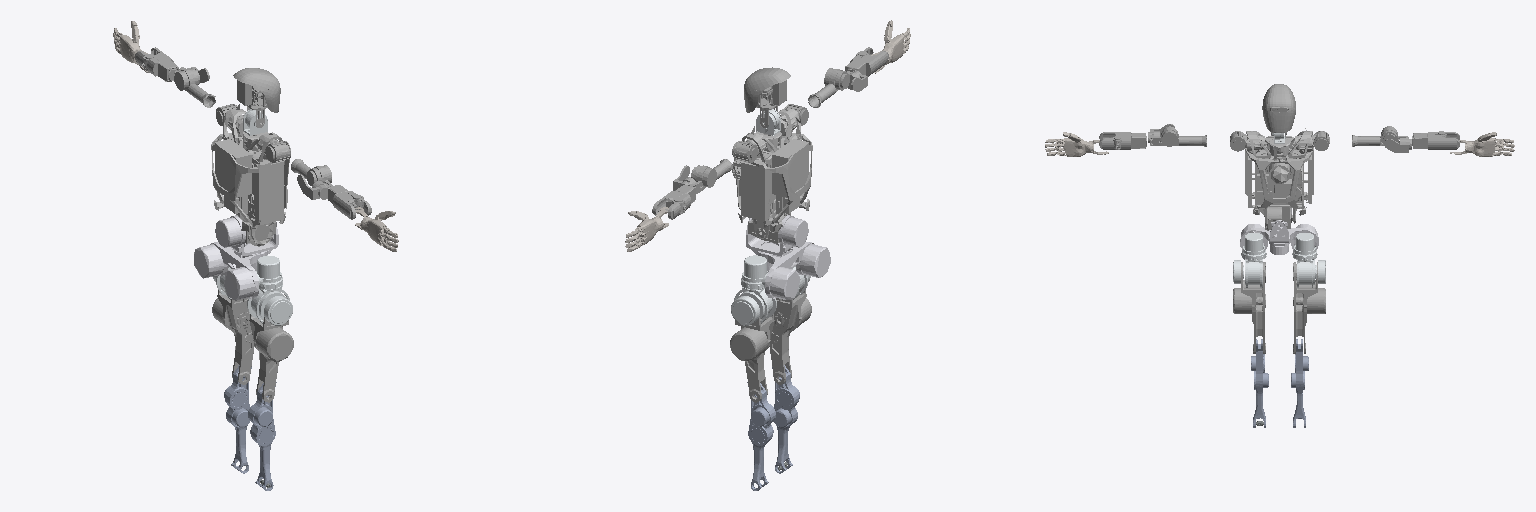
--- Render facts (derived) ---
3 views of the same robot in one strip: view 1: azimuth 30°, elevation 25°; view 2: azimuth 150°, elevation 25°; view 3: azimuth 270°, elevation 25° (orthographic).
Model OpenLoog with 32 links and 31 joints (29 revolute, 2 fixed), rooted at base_link, posed all joints at 0.
Links seen in each view (by area): view 1: base_link, Link_waist_yaw, leg_r3_link, leg_l3_link, Link_head_pitch, leg_r4_link, leg_l4_link, leg_r2_link, Link_waist_roll, Link_arm_r_07, leg_r1_link, Link_arm_l_03 (+4 smaller); view 2: base_link, Link_waist_yaw, leg_l3_link, leg_r3_link, Link_head_pitch, leg_l4_link, leg_r4_link, Link_waist_roll, leg_l2_link, Link_arm_l_07, Link_arm_r_03, leg_l1_link (+4 smaller); view 3: base_link, leg_r3_link, Link_head_pitch, leg_l3_link, Link_waist_yaw, Link_arm_l_07, Link_arm_r_07, leg_r4_link, leg_l4_link, Link_arm_l_05, Link_arm_r_05, leg_l2_link (+4 smaller).
Link boxes in pixels (x1,y1,x2,y2): base_link: [211, 104, 289, 245]; Link_waist_yaw: [194, 242, 272, 300]; leg_r3_link: [249, 314, 293, 402]; leg_l3_link: [212, 288, 254, 384]; Link_head_pitch: [233, 68, 280, 127]; leg_r4_link: [248, 382, 276, 490]; leg_l4_link: [224, 365, 251, 473]; leg_r2_link: [247, 288, 292, 325]; Link_waist_roll: [215, 215, 278, 255]; Link_arm_r_07: [355, 207, 398, 251]; leg_r1_link: [256, 255, 282, 290]; Link_arm_l_03: [175, 68, 215, 107]; base_link: [732, 108, 812, 238]; Link_waist_yaw: [751, 242, 830, 299]; leg_l3_link: [730, 314, 774, 402]; leg_r3_link: [769, 288, 811, 384]; Link_head_pitch: [744, 67, 790, 127]; leg_l4_link: [747, 382, 775, 490]; leg_r4_link: [772, 365, 799, 473]; Link_waist_roll: [746, 215, 808, 255]; leg_l2_link: [731, 287, 776, 325]; Link_arm_l_07: [625, 207, 668, 251]; Link_arm_r_03: [808, 68, 849, 107]; leg_l1_link: [741, 255, 767, 290]; base_link: [1245, 128, 1313, 229]; leg_r3_link: [1233, 262, 1265, 353]; Link_head_pitch: [1262, 84, 1295, 135]; leg_l3_link: [1293, 262, 1325, 353]; Link_waist_yaw: [1240, 224, 1318, 254]; Link_arm_l_07: [1450, 132, 1514, 156]; Link_arm_r_07: [1045, 132, 1108, 156]; leg_r4_link: [1251, 339, 1268, 427]; leg_l4_link: [1291, 339, 1308, 427]; Link_arm_l_05: [1412, 132, 1459, 149]; Link_arm_r_05: [1099, 132, 1146, 149]; leg_l2_link: [1297, 259, 1325, 287].
Bounding box of the posed robot: 0.3295 × 2.22 × 1.77 m (x, y, z).
Meshes: 32 distinct files referenced, 27 mesh visuals loaded (27 binary STL); not drawn: 5 (reference not matched to a file when rendering).

robot.urdf — OpenLoog:
<?xml version="1.0" encoding="utf-8"?>
<!-- This URDF was automatically created by SolidWorks to URDF Exporter! Originally created by Stephen Brawner ([email redacted]) 
     Commit Version: 1.6.0-4-g7f85cfe  Build Version: 1.6.7995.38578
     For more information, please see http://wiki.ros.org/sw_urdf_exporter -->
<robot
  name="OpenLoog">
  <mujoco>
    <compiler
    	meshdir="../meshes/"
    	balanceinertia="true"
    	discardvisual="false" />
  </mujoco>
  <link
    name="base_link">
    <inertial>
      <origin
        xyz="-0.0056641 -0.0013367 0.23829"
        rpy="0 0 0" />
      <mass
        value="27.0000000" />
      <inertia
        ixx="0.4501016"
        ixy="-0.0011392"
        ixz="-0.0055884"
        iyy="0.3330852"
        iyz="-0.0048285"
        izz="0.2658726" />
    </inertial>
    <visual>
      <origin
        xyz="0 0 0"
        rpy="0 0 0" />
      <geometry>
        <mesh
          filename="../meshes/base_link.STL" />
      </geometry>
      <material
        name="">
        <color
          rgba="0.75294 0.75294 0.75294 1" />
      </material>
    </visual>
    <collision>
      <origin
        xyz="0 0 0"
        rpy="0 0 0" />
      <geometry>
        <mesh
          filename="../meshes/base_link.STL" />
      </geometry>
    </collision>
  </link>
  <link
    name="Link_head_yaw">
    <inertial>
      <origin
        xyz="0.0000000 -0.0032217 0.0446573"
        rpy="0 0 0" />
      <mass
        value="0.84249" />
      <inertia
        ixx="0.0005950"
        ixy="0"
        ixz="0"
        iyy="0.0006894"
        iyz="0.0000100"
        izz="0.0005206" />
    </inertial>
    <visual>
      <origin
        xyz="0 0 0"
        rpy="0 0 0" />
      <geometry>
        <mesh
          filename="../meshes/Link_head_yaw.STL" />
      </geometry>
      <material
        name="">
        <color
          rgba="0.89804 0.91765 0.92941 1" />
      </material>
    </visual>
    <!-- <collision>
      <origin
        xyz="0 0 0"
        rpy="0 0 0" />
      <geometry>
        <mesh
          filename="../meshes/Link_head_yaw.STL" />
      </geometry>
    </collision> -->
  </link>
  <joint
    name="J_head_yaw"
    type="fixed">
    <origin
      xyz="0.009 0 0.4064"
      rpy="0 0 0" />
    <parent
      link="base_link" />
    <child
      link="Link_head_yaw" />
    <axis
      xyz="0 0 1" />
    <limit
      lower="-1.5708"
      upper="1.5708"
      effort="26"
      velocity="109.8" />
  </joint>
  <link
    name="Link_head_pitch">
    <inertial>
      <origin
        xyz="0.0205621 0.0330045 0.1250100"
        rpy="0 0 0" />
      <mass
        value="2.65751" />  
      <inertia
        ixx="0.0114469"
        ixy="-0.0000179"
        ixz="0.0014416"
        iyy="0.0119883"
        iyz="-0.0000196"
        izz="0.0092569" />
    </inertial>
    <visual>
      <origin
        xyz="0 0 0"
        rpy="0 0 0" />
      <geometry>
        <mesh
          filename="../meshes/Link_head_pitch.STL" />
      </geometry>
      <material
        name="">
        <color
          rgba="0.69804 0.69804 0.69804 1" />
      </material>
    </visual>
    <!-- <collision>
      <origin
        xyz="0 0 0"
        rpy="0 0 0" />
      <geometry>
        <mesh
          filename="../meshes/Link_head_pitch.STL" />
      </geometry>
    </collision> -->
  </link>
  <joint
    name="J_head_pitch"
    type="fixed">
    <origin
      xyz="0 -0.0345999999999997 0.0484999999999999"
      rpy="0 0 0" />
    <parent
      link="Link_head_yaw" />
    <child
      link="Link_head_pitch" />
    <axis
      xyz="0 -1 0" />
    <limit
      lower="-0.7854"
      upper="0.7854"
      effort="26"
      velocity="109.8" />
  </joint>

  <link
    name="leg_l1_link">
    <inertial>
      <origin
        xyz="0.075725 -0.00093843 0.016591"
        rpy="0 0 0" />
      <mass
        value="2.4334" />
      <inertia
        ixx="0.0034464"
        ixy="-9E-07"
        ixz="-0.0001904"
        iyy="0.0042569"
        iyz="6.6E-06"
        izz="0.0039063" />
    </inertial>
    <visual>
      <origin
        xyz="0 0 0"
        rpy="0 0 0" />
      <geometry>
        <mesh
          filename="../meshes/Link_hip_l_roll.STL" />
      </geometry>
      <material
        name="">
        <color
          rgba="0.89804 0.91765 0.92941 1" />
      </material>
    </visual>
    <!-- <collision>
      <origin
        xyz="0 0 0"
        rpy="0 0 0" />
      <geometry>
        <mesh
          filename="../meshes/Link_hip_l_roll.STL" />
      </geometry>
    </collision> -->
  </link>
  <joint
    name="leg_l1_joint"
    type="revolute">
    <origin
      xyz="-0.0875 0.12 -0.069"
      rpy="0 0 0" />
    <parent
      link="Link_waist_yaw" />
    <child
      link="leg_l1_link" />
    <axis
      xyz="1 0 0" />
    <limit
      lower="-2.17453"
      upper="2.43633"
      effort="1000"
      velocity="100" />
  </joint>
  <link
    name="leg_l2_link">
    <inertial>
      <origin
        xyz="-3.1716E-08 0.0071358 -0.10063"
        rpy="0 0 0" />
      <mass
        value="3.4304" />
      <inertia
        ixx="0.0077365"
        ixy="0"
        ixz="0"
        iyy="0.0080807"
        iyz="0.0001167"
        izz="0.0066409" />
    </inertial>
    <visual>
      <origin
        xyz="0 0 0"
        rpy="0 0 0" />
      <geometry>
        <mesh
          filename="../meshes/Link_hip_l_yaw.STL" />
      </geometry>
      <material
        name="">
        <color
          rgba="0.89804 0.91765 0.92941 1" />
      </material>
    </visual>
    <!-- <collision>
      <origin
        xyz="0 0 0"
        rpy="0 0 0" />
      <geometry>
        <mesh
          filename="../meshes/Link_hip_l_yaw.STL" />
      </geometry>
    </collision> -->
  </link>
  <joint
    name="leg_l2_joint"
    type="revolute">
    <origin
      xyz="0.08225 0 -0.01"
      rpy="0 0 0" />
    <parent
      link="leg_l1_link" />
    <child
      link="leg_l2_link" />
    <axis
      xyz="0 0 1" />
    <limit
      lower="-2.69813"
      upper="2.69813"
      effort="1000"
      velocity="100" />
  </joint>
  <link
    name="leg_l3_link">
    <inertial>
      <origin
        xyz="0.0010856 0.05497 -0.14535"
        rpy="0 0 0" />
      <mass
        value="5.2378" />
      <inertia
        ixx="0.043457"
        ixy="0.0002479"
        ixz="0.0007626"
        iyy="0.037801"
        iyz="-0.0007431"
        izz="0.015183" />
    </inertial>
    <visual>
      <origin
        xyz="0 0 0"
        rpy="0 0 0" />
      <geometry>
        <mesh
          filename="../meshes/Link_hip_l_pitch.STL" />
      </geometry>
      <material
        name="">
        <color
          rgba="0.69804 0.69804 0.69804 1" />
      </material>
    </visual>
    <!-- <collision>
      <origin
        xyz="0 0 0"
        rpy="0 0 0" />
      <geometry>
        <mesh
          filename="../meshes/Link_hip_l_pitch.STL" />
      </geometry>
    </collision> -->
  </link>
  <joint
    name="leg_l3_joint"
    type="revolute">
    <origin
      xyz="0 -0.03675 -0.1055"
      rpy="0 0 0" />
    <parent
      link="leg_l2_link" />
    <child
      link="leg_l3_link" />
    <axis
      xyz="0 -1 0" />
    <limit
      lower="-2.78540"
      upper="2.83260"
      effort="1000"
      velocity="100" />
  </joint>
  <link
    name="leg_l4_link">
    <inertial>
      <origin
        xyz="-0.0096425 -2.8684E-06 -0.13601"
        rpy="0 0 0" />
      <mass
        value="2.9775" />
      <inertia
        ixx="0.023859"
        ixy="6.76E-05"
        ixz="0.0004656"
        iyy="0.024183"
        iyz="-0.000548"
        izz="0.0023083" />
    </inertial>
    <visual>
      <origin
        xyz="0 0 0"
        rpy="0 0 0" />
      <geometry>
        <mesh
          filename="../meshes/Link_knee_l_pitch.STL" />
      </geometry>
      <material
        name="">
        <color
          rgba="0.66667 0.69804 0.76863 1" />
      </material>
    </visual>
    <!-- <collision>
      <origin
        xyz="0 0 0"
        rpy="0 0 0" />
      <geometry>
        <mesh
          filename="../meshes/Link_knee_l_pitch.STL" />
      </geometry>
    </collision> -->
  </link>
  <joint
    name="leg_l4_joint"
    type="revolute">
    <origin
      xyz="0 0.01125 -0.4"
      rpy="0 0 0" />
    <parent
      link="leg_l3_link" />
    <child
      link="leg_l4_link" />
    <axis
      xyz="0 -1 0" />
    <limit
      lower="-2.35619"
      upper="2.0"
      effort="1000"
      velocity="100" />
  </joint>
  <link
    name="leg_l5_link">
    <inertial>
      <origin
        xyz="-6.1835E-12 1.2655E-07 6.7022E-08"
        rpy="0 0 0" />
      <mass
        value="0.10145" />
      <inertia
        ixx="2.7175E-05"
        ixy="1.0023E-14"
        ixz="8.1752E-13"
        iyy="6.1118E-06"
        iyz="2.6285E-11"
        izz="2.6565E-05" />
    </inertial>
    <visual>
      <origin
        xyz="0 0 0"
        rpy="0 0 0" />
      <geometry>
        <mesh
          filename="../meshes/Link_ankle_l_pitch.STL" />
      </geometry>
      <material
        name="">
        <color
          rgba="0.52941 0.54902 0.54902 1" />
      </material>
    </visual>
    <!-- <collision>
      <origin
        xyz="0 0 0"
        rpy="0 0 0" />
      <geometry>
        <mesh
          filename="../meshes/Link_ankle_l_pitch.STL" />
      </geometry>
    </collision> -->
  </link>
  <joint
    name="leg_l5_joint"
    type="revolute">
    <origin
      xyz="0 0 -0.387"
      rpy="0 0 0" />
    <parent
      link="leg_l4_link" />
    <child
      link="leg_l5_link" />
    <axis
      xyz="0 -1 0" />
    <limit
      lower="-2.47"
      upper="2.87"
      effort="1000"
      velocity="100" />
  </joint>
  <link
    name="leg_l6_link">
    <inertial>
      <origin
        xyz="0.041077 -2.9318E-08 -0.043909"
        rpy="0 0 0" />
      <mass
        value="0.7522882" />
      <inertia
        ixx="0.0004393"
        ixy="0"
        ixz="0.000269"
        iyy="0.0036465"
        iyz="0"
        izz="0.0036369" />
    </inertial>
    <visual>
      <origin
        xyz="0 0 0"
        rpy="0 0 0" />
      <geometry>
        <mesh
          filename="../meshes/Link_ankle_l_roll.STL" />
      </geometry>
      <material
        name="">
        <color
          rgba="0.89804 0.91765 0.92941 1" />
      </material>
    </visual>
    <!-- <collision>
      <origin
        xyz="0 0 0"
        rpy="0 0 0" />
      <geometry>
        <mesh
          filename="../meshes/Link_ankle_l_roll.STL" />
      </geometry>
    </collision> -->

    <!-- 前脚掌-->
    <collision>
      <origin rpy="0 0 0" xyz="0.0955 0 -0.060"/>
      <geometry>
        <box size="0.058 0.078 0.018"/>
      </geometry>
    </collision>

    <collision>
      <origin rpy="0 0 0" xyz="0.105 0 -0.060"/>
      <geometry>
        <box size="0.074 0.066 0.018"/>
      </geometry>
    </collision>

    <collision>
      <origin rpy="0 0 -0.323" xyz="0.1305 0.0274 -0.060"/>
      <geometry>
        <box size="0.0185 0.0185 0.018"/>
      </geometry>
    </collision>

    <collision>
      <origin rpy="0 0 0.323" xyz="0.1305 -0.0274 -0.060"/>
      <geometry>
        <box size="0.0185 0.019 0.018"/>
      </geometry>
    </collision>

    <collision>
      <origin rpy="0 0 0" xyz="0.145 0 -0.057"/>
      <geometry>
        <box size="0.05 0.046 0.0142"/>
      </geometry>
    </collision>

    <collision>
      <origin rpy="0 -0.15 0" xyz="0.155 0 -0.06194"/>
      <geometry>
        <box size="0.028 0.048 0.01"/>
      </geometry>
    </collision>

    <collision>
      <origin rpy="0 -0.15 -0.323" xyz="0.152 0.0202 -0.0598"/>
      <geometry>
        <box size="0.028 0.0185 0.014"/>
      </geometry>
    </collision>

    <collision>
      <origin rpy="0 -0.15 0.323" xyz="0.152 -0.0202 -0.0598"/>
      <geometry>
        <box size="0.028 0.0185 0.014"/>
      </geometry>
    </collision>

    <collision>
      <origin rpy="0 0.12 -0.323" xyz="0.152 0.0202 -0.0545"/>
      <geometry>
        <box size="0.028 0.0185 0.014"/>
      </geometry>
    </collision>

    <collision>
      <origin rpy="0 0.12 0.323" xyz="0.152 -0.0202 -0.0545"/>
      <geometry>
        <box size="0.028 0.0185 0.014"/>
      </geometry>
    </collision>

    <collision>
      <origin rpy="0 0.13 0" xyz="0.154 0 -0.0525"/>
      <geometry>
        <box size="0.028 0.048 0.01"/>
      </geometry>
    </collision>

    <!-- 前脚掌 end -->

    <!-- 后脚掌 -->

    <collision>
      <origin rpy="0 0 0" xyz="0.02 0 -0.047"/>
      <geometry>
        <box size="0.15 0.05 0.016"/>
      </geometry>
    </collision>

        <collision>
      <origin rpy="0 0 0" xyz="-0.025 -0.02 -0.060"/>
      <geometry>
        <cylinder length = "0.018" radius = "0.009"/>
      </geometry>
    </collision>

        <collision>
      <origin rpy="0 0 0" xyz="-0.025 0.02 -0.060"/>
      <geometry>
        <cylinder length = "0.018" radius = "0.009"/>
      </geometry>
    </collision>

    <collision>
      <origin rpy="0 0 0" xyz="-0.04 0 -0.060"/>
      <geometry>
        <box size="0.03 0.058 0.018"/>
      </geometry>
    </collision>

    <collision>
      <origin rpy="1.5707963 0 0" xyz="-0.055 0.0 -0.049"/>
      <geometry>
        <cylinder length = "0.058" radius = "0.02"/>
      </geometry>
    </collision>

    <collision>
      <origin rpy="0 0 0" xyz="-0.031 0 -0.060"/>
      <geometry>
        <box size="0.03 0.04 0.018"/>
      </geometry>
    </collision>

    <collision>
      <origin rpy="0 0 0" xyz="-0.05975 0 -0.0435"/>
      <geometry>
        <box size="0.03 0.044 0.015"/>
      </geometry>
    </collision>
    <!-- 后脚掌 -->
  </link>
  <joint
    name="leg_l6_joint"
    type="revolute">
    <origin
      xyz="0 0 0"
      rpy="0 0 0" />
    <parent
      link="leg_l5_link" />
    <child
      link="leg_l6_link" />
    <axis
      xyz="1 0 0" />
    <limit
      lower="-2.43633"
      upper="2.43633"
      effort="1000"
      velocity="100" />
  </joint>

  <link
    name="leg_r1_link">
    <inertial>
      <origin
        xyz="0.075725 -0.0010616 0.016591"
        rpy="0 0 0" />
      <mass
        value="2.4334" />
      <inertia
        ixx="0.0036961"
        ixy="9E-07"
        ixz="-0.0001644"
        iyy="0.0045067"
        iyz="-6.3E-06"
        izz="0.0039063" />
    </inertial>
    <visual>
      <origin
        xyz="0 0 0"
        rpy="0 0 0" />
      <geometry>
        <mesh
          filename="../meshes/Link_hip_r_roll.STL" />
      </geometry>
      <material
        name="">
        <color
          rgba="0.89804 0.91765 0.92941 1" />
      </material>
    </visual>
    <!-- <collision>
      <origin
        xyz="0 0 0"
        rpy="0 0 0" />
      <geometry>
        <mesh
          filename="../meshes/Link_hip_r_roll.STL" />
      </geometry>
    </collision> -->
  </link>
  <joint
    name="leg_r1_joint"
    type="revolute">
    <origin
      xyz="-0.0875 -0.12 -0.069"
      rpy="0 0 0" />
    <parent
      link="Link_waist_yaw" />
    <child
      link="leg_r1_link" />
    <axis
      xyz="1 0 0" />
    <limit
      lower="-2.43633"
      upper="2.17453"
      effort="1000"
      velocity="100" />
  </joint>
  <link
    name="leg_r2_link">
    <inertial>
      <origin
        xyz="-3.0911E-08 -0.0071356 -0.10063"
        rpy="0 0 0" />
      <mass
        value="3.4303" />
      <inertia
        ixx="0.0077365"
        ixy="0"
        ixz="0"
        iyy="0.0080807"
        iyz="-0.0001167"
        izz="0.006641" />
    </inertial>
    <visual>
      <origin
        xyz="0 0 0"
        rpy="0 0 0" />
      <geometry>
        <mesh
          filename="../meshes/Link_hip_r_yaw.STL" />
      </geometry>
      <material
        name="">
        <color
          rgba="0.89804 0.91765 0.92941 1" />
      </material>
    </visual>
    <!-- <collision>
      <origin
        xyz="0 0 0"
        rpy="0 0 0" />
      <geometry>
        <mesh
          filename="../meshes/Link_hip_r_yaw.STL" />
      </geometry>
    </collision> -->
  </link>
  <joint
    name="leg_r2_joint"
    type="revolute">
    <origin
      xyz="0.08225 0 -0.01"
      rpy="0 0 0" />
    <parent
      link="leg_r1_link" />
    <child
      link="leg_r2_link" />
    <axis
      xyz="0 0 1" />
    <limit
      lower="-2.69813"
      upper="2.69813"
      effort="1000"
      velocity="100" />
  </joint>
  <link
    name="leg_r3_link">
    <inertial>
      <origin
        xyz="0.0010856 -0.05497 -0.14535"
        rpy="0 0 0" />
      <mass
        value="5.2378" />
      <inertia
        ixx="0.043457"
        ixy="-0.0002478"
        ixz="0.0007626"
        iyy="0.037801"
        iyz="0.0007431"
        izz="0.015183" />
    </inertial>
    <visual>
      <origin
        xyz="0 0 0"
        rpy="0 0 0" />
      <geometry>
        <mesh
          filename="../meshes/Link_hip_r_pitch.STL" />
      </geometry>
      <material
        name="">
        <color
          rgba="0.69804 0.69804 0.69804 1" />
      </material>
    </visual>
    <!-- <collision>
      <origin
        xyz="0 0 0"
        rpy="0 0 0" />
      <geometry>
        <mesh
          filename="../meshes/Link_hip_r_pitch.STL" />
      </geometry>
    </collision> -->
  </link>
  <joint
    name="leg_r3_joint"
    type="revolute">
    <origin
      xyz="0 0.03675 -0.1055"
      rpy="0 0 0" />
    <parent
      link="leg_r2_link" />
    <child
      link="leg_r3_link" />
    <axis
      xyz="0 -1 0" />
    <limit
      lower="-2.78540"
      upper="2.83260"
      effort="1000"
      velocity="100" />
  </joint>
  <link
    name="leg_r4_link">
    <inertial>
      <origin
        xyz="-0.0096425 2.9338E-06 -0.13601"
        rpy="0 0 0" />
      <mass
        value="2.9775" />
      <inertia
        ixx="0.02386"
        ixy="-6.76E-05"
        ixz="0.0004656"
        iyy="0.024184"
        iyz="0.0005481"
        izz="0.0023083" />
    </inertial>
    <visual>
      <origin
        xyz="0 0 0"
        rpy="0 0 0" />
      <geometry>
        <mesh
          filename="../meshes/Link_knee_r_pitch.STL" />
      </geometry>
      <material
        name="">
        <color
          rgba="0.66667 0.69804 0.76863 1" />
      </material>
    </visual>
    <!-- <collision>
      <origin
        xyz="0 0 0"
        rpy="0 0 0" />
      <geometry>
        <mesh
          filename="../meshes/Link_knee_r_pitch.STL" />
      </geometry>
    </collision> -->
  </link>
  <joint
    name="leg_r4_joint"
    type="revolute">
    <origin
      xyz="0 -0.01125 -0.4"
      rpy="0 0 0" />
    <parent
      link="leg_r3_link" />
    <child
      link="leg_r4_link" />
    <axis
      xyz="0 -1 0" />
    <limit
      lower="-2.35619"
      upper="2.0"
      effort="1000"
      velocity="100" />
  </joint>
  <link
    name="leg_r5_link">
    <inertial>
      <origin
        xyz="-6.1835E-12 -1.2655E-07 -2.4682E-08"
        rpy="0 0 0" />
      <mass
        value="0.10145" />
      <inertia
        ixx="2.7175E-05"
        ixy="-1.0023E-14"
        ixz="8.1752E-13"
        iyy="6.1118E-06"
        iyz="-2.6285E-11"
        izz="2.6565E-05" />
    </inertial>
    <visual>
      <origin
        xyz="0 0 0"
        rpy="0 0 0" />
      <geometry>
        <mesh
          filename="../meshes/Link_ankle_r_pitch.STL" />
      </geometry>
      <material
        name="">
        <color
          rgba="0.52941 0.54902 0.54902 1" />
      </material>
    </visual>
    <!-- <collision>
      <origin
        xyz="0 0 0"
        rpy="0 0 0" />
      <geometry>
        <mesh
          filename="../meshes/Link_ankle_r_pitch.STL" />
      </geometry>
    </collision> -->
  </link>
  <joint
    name="leg_r5_joint"
    type="revolute">
    <origin
      xyz="0 0 -0.387"
      rpy="0 0 0" />
    <parent
      link="leg_r4_link" />
    <child
      link="leg_r5_link" />
    <axis
      xyz="0 -1 0" />
    <limit
      lower="-2.47"
      upper="2.87"
      effort="1000"
      velocity="100" />
  </joint>
  <link
    name="leg_r6_link">
    <inertial>
      <origin
        xyz="0.041078 -8.9152E-08 -0.043909"
        rpy="0 0 0" />
      <mass
        value="0.75229" />
      <inertia
        ixx="0.0004393"
        ixy="0"
        ixz="0.000269"
        iyy="0.0036465"
        iyz="0"
        izz="0.0036369" />
    </inertial>
    <visual>
      <origin
        xyz="0 0 0"
        rpy="0 0 0" />
      <geometry>
        <mesh
          filename="../meshes/Link_ankle_r_roll.STL" />
      </geometry>
      <material
        name="">
        <color
          rgba="0.89804 0.91765 0.92941 1" />
      </material>
    </visual>
    <!-- <collision>
      <origin
        xyz="0 0 0"
        rpy="0 0 0" />
      <geometry>
        <mesh
          filename="../meshes/Link_ankle_r_roll.STL" />
      </geometry>
    </collision> -->

    <!-- 前脚掌-->
    <collision>
      <origin rpy="0 0 0" xyz="0.0955 0 -0.060"/>
      <geometry>
        <box size="0.058 0.078 0.018"/>
      </geometry>
    </collision>

    <collision>
      <origin rpy="0 0 0" xyz="0.105 0 -0.060"/>
      <geometry>
        <box size="0.074 0.066 0.018"/>
      </geometry>
    </collision>

    <collision>
      <origin rpy="0 0 -0.323" xyz="0.1305 0.0274 -0.060"/>
      <geometry>
        <box size="0.0185 0.0185 0.018"/>
      </geometry>
    </collision>

    <collision>
      <origin rpy="0 0 0.323" xyz="0.1305 -0.0274 -0.060"/>
      <geometry>
        <box size="0.0185 0.019 0.018"/>
      </geometry>
    </collision>

    <collision>
      <origin rpy="0 0 0" xyz="0.145 0 -0.057"/>
      <geometry>
        <box size="0.05 0.046 0.0142"/>
      </geometry>
    </collision>

    <collision>
      <origin rpy="0 -0.15 0" xyz="0.155 0 -0.06194"/>
      <geometry>
        <box size="0.028 0.048 0.01"/>
      </geometry>
    </collision>

    <collision>
      <origin rpy="0 -0.15 -0.323" xyz="0.152 0.0202 -0.0598"/>
      <geometry>
        <box size="0.028 0.0185 0.014"/>
      </geometry>
    </collision>

    <collision>
      <origin rpy="0 -0.15 0.323" xyz="0.152 -0.0202 -0.0598"/>
      <geometry>
        <box size="0.028 0.0185 0.014"/>
      </geometry>
    </collision>

    <collision>
      <origin rpy="0 0.12 -0.323" xyz="0.152 0.0202 -0.0545"/>
      <geometry>
        <box size="0.028 0.0185 0.014"/>
      </geometry>
    </collision>

    <collision>
      <origin rpy="0 0.12 0.323" xyz="0.152 -0.0202 -0.0545"/>
      <geometry>
        <box size="0.028 0.0185 0.014"/>
      </geometry>
    </collision>

    <collision>
      <origin rpy="0 0.13 0" xyz="0.154 0 -0.0525"/>
      <geometry>
        <box size="0.028 0.048 0.01"/>
      </geometry>
    </collision>

    <!-- 前脚掌 end -->

    <!-- 后脚掌 -->

    <collision>
      <origin rpy="0 0 0" xyz="0.02 0 -0.047"/>
      <geometry>
        <box size="0.15 0.05 0.016"/>
      </geometry>
    </collision>

        <collision>
      <origin rpy="0 0 0" xyz="-0.025 -0.02 -0.060"/>
      <geometry>
        <cylinder length = "0.018" radius = "0.009"/>
      </geometry>
    </collision>

        <collision>
      <origin rpy="0 0 0" xyz="-0.025 0.02 -0.060"/>
      <geometry>
        <cylinder length = "0.018" radius = "0.009"/>
      </geometry>
    </collision>

    <collision>
      <origin rpy="0 0 0" xyz="-0.04 0 -0.060"/>
      <geometry>
        <box size="0.03 0.058 0.018"/>
      </geometry>
    </collision>

    <collision>
      <origin rpy="1.5707963 0 0" xyz="-0.055 0.0 -0.049"/>
      <geometry>
        <cylinder length = "0.058" radius = "0.02"/>
      </geometry>
    </collision>

    <collision>
      <origin rpy="0 0 0" xyz="-0.031 0 -0.060"/>
      <geometry>
        <box size="0.03 0.04 0.018"/>
      </geometry>
    </collision>

    <collision>
      <origin rpy="0 0 0" xyz="-0.05975 0 -0.0435"/>
      <geometry>
        <box size="0.03 0.044 0.015"/>
      </geometry>
    </collision>
    <!-- 后脚掌 -->
  </link>
  <joint
    name="leg_r6_joint"
    type="revolute">
    <origin
      xyz="0 0 0"
      rpy="0 0 0" />
    <parent
      link="leg_r5_link" />
    <child
      link="leg_r6_link" />
    <axis
      xyz="1 0 0" />
    <limit
      lower="-2.43633"
      upper="2.43633"
      effort="1000"
      velocity="100" />
  </joint>

  <link
    name="Link_arm_l_01">
    <inertial>
      <origin
        xyz="-0.0046426 0.0571151 -0.0000339"
        rpy="0 0 0" />
      <mass
        value="0.999469576" />
        <inertia
        ixx="0.0008199"
        ixy="0.0000161"
        ixz="0.0000013"
        iyy="0.0007528"
        iyz="0.0000001"
        izz="0.0009117" />
    </inertial>
    <visual>
      <origin
        xyz="0 0 0"
        rpy="0 0 0" />
      <geometry>
        <mesh
          filename="../meshes/Link_arm_l_01.STL" />
      </geometry>
      <material
        name="">
        <color
          rgba="0.698039215686274 0.698039215686274 0.698039215686274 1" />
      </material>
    </visual>
    <!-- <collision>
      <origin
        xyz="0 0 0"
        rpy="0 0 0" />
      <geometry>
        <mesh
          filename="../meshes/Link_arm_l_01.STL" />
      </geometry>
    </collision> -->
  </link>
  <joint
    name="x_left_arm_joint1"
    type="revolute">
    <origin
    xyz="0 0.15585 0.4005"
    rpy="0 0 0" />
    <parent
      link="base_link" />
    <child
      link="Link_arm_l_01" />
    <axis
      xyz="0 1 0" />
    <limit
      lower="-2.96706"
      upper="2.96706"
      effort="1000"
      velocity="50" />
  </joint>
  <link
    name="Link_arm_l_02">
    <inertial>
      <origin
        xyz="-0.0010619 0.0788156 -0.0000094"
        rpy="0 0 0" />
      <mass
        value="1.2000362" />
        <inertia
        ixx="0.0018536"
        ixy="-0.0000661"
        ixz="0.0000007"
        iyy="0.0012457"
        iyz="0.0000001"
        izz="0.002266" />
    </inertial>
    <visual>
      <origin
        xyz="0 0 0"
        rpy="0 0 0" />
      <geometry>
        <mesh
          filename="../meshes/Link_arm_l_02.STL" />
      </geometry>
      <material
        name="">
        <color
          rgba="0.698039215686274 0.698039215686274 0.698039215686274 1" />
      </material>
    </visual>
    <!-- <collision>
      <origin
        xyz="0 0 0"
        rpy="0 0 0" />
      <geometry>
        <mesh
          filename="../meshes/Link_arm_l_02.STL" />
      </geometry>
    </collision> -->
  </link>
  <joint
    name="x_left_arm_joint2"
    type="revolute">
    <origin
    xyz="0 0.062 0"
    rpy="0 0 0" />
    <parent
      link="Link_arm_l_01" />
    <child
      link="Link_arm_l_02" />
    <axis
      xyz="1 0 0" />
    <limit
      lower="-1.83260"
      upper="1.83260"
      effort="1000"
      velocity="50" />
  </joint>
  <link
    name="Link_arm_l_03">
    <inertial>
      <origin
      xyz="-0.0062837 0.1617365 0.020381"
      rpy="0 0 0" />
      <mass
      value="1.05028474" />
      <inertia
      ixx="0.0025455"
      ixy="0.000105"
      ixz="0.0000236"
      iyy="0.0007975"
      iyz="-0.0003435"
      izz="0.0024808" />
    </inertial>
    <visual>
      <origin
        xyz="0 0 0"
        rpy="0 0 0" />
      <geometry>
        <mesh
          filename="../meshes/Link_arm_l_03.STL" />
      </geometry>
      <material
        name="">
        <color
          rgba="0.698039215686274 0.698039215686274 0.698039215686274 1" />
      </material>
    </visual>
    <!-- <collision>
      <origin
        xyz="0 0 0"
        rpy="0 0 0" />
      <geometry>
        <mesh
          filename="../meshes/Link_arm_l_03.STL" />
      </geometry>
    </collision> -->
  </link>
  <joint
    name="x_left_arm_joint3"
    type="revolute">
    <origin
    xyz="0 0.1226 -4.5237E-05"
    rpy="0 0 0" />
    <parent
      link="Link_arm_l_02" />
    <child
      link="Link_arm_l_03" />
    <axis
      xyz="0 1 0" />
    <limit
      lower="-2.96706"
      upper="2.96706"
      effort="1000"
      velocity="50" />
  </joint>
  <link
    name="Link_arm_l_04">
    <inertial>
      <origin
      xyz="-0.0031896 0.0686669 -0.0204404"
      rpy="0 0 0" />
      <mass
      value="0.80390762" />
      <inertia
      ixx="0.0010455"
      ixy="-0.0001055"
      ixz="0.0000164"
      iyy="0.0006977"
      iyz="0.000155"
      izz="0.0013839" />
    </inertial>
    <visual>
      <origin
        xyz="0 0 0"
        rpy="0 0 0" />
      <geometry>
        <mesh
          filename="../meshes/Link_arm_l_04.STL" />
      </geometry>
      <material
        name="">
        <color
          rgba="0.698039215686274 0.698039215686274 0.698039215686274 1" />
      </material>
    </visual>
    <!-- <collision>
      <origin
        xyz="0 0 0"
        rpy="0 0 0" />
      <geometry>
        <mesh
          filename="../meshes/Link_arm_l_04.STL" />
      </geometry>
    </collision> -->
  </link>
  <joint
    name="x_left_arm_joint4"
    type="revolute">
    <origin
    xyz="0 0.1774 0.024"
    rpy="0 0 0" />
    <parent
      link="Link_arm_l_03" />
    <child
      link="Link_arm_l_04" />
    <axis
      xyz="1 0 0" />
    <limit
      lower="0"
      upper="2.96706"
      effort="1000"
      velocity="50" />
  </joint>
  <link
    name="Link_arm_l_05">
    <inertial>
      <origin
      xyz="-0.0045361 0.0998432 -0.000004"
      rpy="0 0 0" />
      <mass
      value="0.80390762" />
      <inertia
      ixx="0.0022061"
      ixy="0.0001485"
      ixz="-0.0000004"
      iyy="0.0004108"
      iyz="-0.0000009"
      izz="0.0022172" />
    </inertial>
    <visual>
      <origin
        xyz="0 0 0"
        rpy="0 0 0" />
      <geometry>
        <mesh
          filename="../meshes/Link_arm_l_05.STL" />
      </geometry>
      <material
        name="">
        <color
          rgba="0.69804 0.69804 0.69804 1" />
      </material>
    </visual>
    <!-- <collision>
      <origin
        xyz="0 0 0"
        rpy="0 0 0" />
      <geometry>
        <mesh
          filename="../meshes/Link_arm_l_05.STL" />
      </geometry>
    </collision> -->
  </link>
  <joint
    name="x_left_arm_joint5"
    type="revolute">
    <origin
    xyz="0 0.107 -0.024"
    rpy="0 0 0" />
    <parent
      link="Link_arm_l_04" />
    <child
      link="Link_arm_l_05" />
    <axis
      xyz="0 1 0" />
    <limit
      lower="-2.96706"
      upper="2.96706"
      effort="1000"
      velocity="50" />
  </joint>
  <link
    name="Link_arm_l_06">
    <inertial>
      <origin
      xyz="-0.000364 0.0482053 0.0065673"
      rpy="0 0 0" />
      <mass
      value="0.466149172" />
      <inertia
      ixx="0.0002744"
      ixy="-0.0000101"
      ixz="-0.0000011"
      iyy="0.0002192"
      iyz="-0.0000183"
      izz="0.0003278" />
    </inertial>
    <visual>
      <origin
        xyz="0 0 0"
        rpy="0 0 0" />
      <geometry>
        <mesh
          filename="../meshes/Link_arm_l_06.STL" />
      </geometry>
      <material
        name="">
        <color
          rgba="0.698039215686274 0.698039215686274 0.698039215686274 1" />
      </material>
    </visual>
    <!-- <collision>
      <origin
        xyz="0 0 0"
        rpy="0 0 0" />
      <geometry>
        <mesh
          filename="../meshes/Link_arm_l_06.STL" />
      </geometry>
    </collision> -->
  </link>
  <joint
    name="x_left_arm_joint6"
    type="revolute">
    <origin
    xyz="0 0.139 0"
    rpy="0 0 0" />
    <parent
      link="Link_arm_l_05" />
    <child
      link="Link_arm_l_06" />
    <axis
      xyz="-1 0 0" />
    <limit
      lower="-1.8326"
      upper="1.8326"
      effort="1000"
      velocity="50" />
  </joint>
  <link
    name="Link_arm_l_07">
    <inertial>
      <origin
      xyz="0.002273 0.1039775 0.0019001"
      rpy="0 0 0" />
      <mass
      value="0.6529339" />
      <inertia
      ixx="0.0015822"
      ixy="-0.0000237"
      ixz="-0.0000497"
      iyy="0.0003307"
      iyz="-0.0000817"
      izz="0.0013945" />
    </inertial>
    <visual>
      <origin
        xyz="0 0 0"
        rpy="0 0 0" />
      <geometry>
        <mesh
          filename="../meshes/Link_arm_l_07.STL" />
      </geometry>
      <material
        name="">
        <color
          rgba="0.77647 0.75686 0.73725 1" />
      </material>
    </visual>
    <!-- <collision>
      <origin
        xyz="0 0 0"
        rpy="0 0 0" />
      <geometry>
        <mesh
          filename="../meshes/Link_arm_l_07.STL" />
      </geometry>
    </collision> -->
  </link>
  <joint
    name="x_left_arm_joint7"
    type="revolute">
    <origin
    xyz="0 0.054 4.52E-05"
    rpy="0 0 0" />
    <parent
      link="Link_arm_l_06" />
    <child
      link="Link_arm_l_07" />
    <axis
      xyz="0 0 1" />
    <limit
      lower="-1.04720"
      upper="1.04720"
      effort="1000"
      velocity="50" />
  </joint>
  <link
    name="Link_waist_pitch">
    <inertial>
      <origin
      xyz="-0.0011234 0.0519690 -0.0000454"
      rpy="0 0 0" />
      <mass
      value="3.1347677" />
      <inertia
      ixx="0.0065284"
      ixy="0.0000705"
      ixz="-0.0000004"
      iyy="0.0061664"
      iyz="-0.0000110"
      izz="0.0082960" />
    </inertial>
    <visual>
      <origin
        xyz="0 0 0"
        rpy="0 0 0" />
      <geometry>
        <mesh
          filename="../meshes/Link_waist_pitch.STL" />
      </geometry>
      <material
        name="">
        <color
          rgba="0.69804 0.69804 0.69804 1" />
      </material>
    </visual>
    <!-- <collision>
      <origin
        xyz="0 0 0"
        rpy="0 0 0" />
      <geometry>
        <mesh
          filename="../meshes/Link_waist_pitch.STL" />
      </geometry>
    </collision> -->
  </link>
  <joint
    name="waist_joint_pitch"
    type="revolute">
    <origin
      xyz="0 -0.0655 0"
      rpy="0 0 0" />
    <parent
      link="base_link" />
    <child
      link="Link_waist_pitch" />
    <axis
      xyz="0 -1 0" />
    <limit
      lower="-0.29671"
      upper="0.78540"
      effort="1000"
      velocity="50" />
  </joint>
  <link
    name="Link_waist_roll">
    <inertial>
      <origin
      xyz="-0.0027707 -0.0010000 -0.0222355"
      rpy="0 0 0" />
      <mass
      value="3.2000000" />
      <inertia
      ixx="0.0084883"
      ixy="0"
      ixz="0.0050053"
      iyy="0.0200154"
      iyz="0"
      izz="0.0164719" />
    </inertial>
    <visual>
      <origin
        xyz="0 0 0"
        rpy="0 0 0" />
      <geometry>
        <mesh
          filename="../meshes/Link_waist_roll.STL" />
      </geometry>
      <material
        name="">
        <color
          rgba="0.8902 0.8902 0.91373 1" />
      </material>
    </visual>
    <!-- <collision>
      <origin
        xyz="0 0 0"
        rpy="0 0 0" />
      <geometry>
        <mesh
          filename="../meshes/Link_waist_roll.STL" />
      </geometry>
    </collision> -->
  </link>
  <joint
    name="waist_joint_roll"
    type="revolute">
    <origin
      xyz="-0.064 0.0655 0"
      rpy="0 0 0" />
    <parent
      link="Link_waist_pitch" />
    <child
      link="Link_waist_roll" />
    <axis
      xyz="1 0 0" />
    <limit
      lower="-0.69813"
      upper="0.69813"
      effort="1000"
      velocity="50" />
  </joint>
  <link
    name="Link_waist_yaw">
    <inertial>
      <origin
      xyz="-0.0954284 -0.0010000 -0.0572053"
      rpy="0 0 0" />
      <mass
      value="7.6000000" />
      <inertia
        ixx="0.0937886"
        ixy="0"
        ixz="-0.0060869"
        iyy="0.0338386"
        iyz="0"
        izz="0.1100101" />
    </inertial>
    <visual>
      <origin
        xyz="0 0 0"
        rpy="0 0 0" />
      <geometry>
        <mesh
          filename="../meshes/Link_waist_yaw.STL" />
      </geometry>
      <material
        name="">
        <color
          rgba="0.8902 0.8902 0.91373 1" />
      </material>
    </visual>
    <!-- <collision>
      <origin
        xyz="0 0 0"
        rpy="0 0 0" />
      <geometry>
        <mesh
          filename="../meshes/Link_waist_yaw.STL" />
      </geometry>
    </collision> -->
  </link>
  <joint
    name="waist_joint_yaw"
    type="revolute">
    <origin
      xyz="0.0675 0 -0.098"
      rpy="0 0 0" />
    <parent
      link="Link_waist_roll" />
    <child
      link="Link_waist_yaw" />
    <axis
      xyz="0 0 1" />
    <limit
      lower="-0.78540"
      upper="0.78540"
      effort="1000"
      velocity="50" />
  </joint>


  <link
    name="Link_arm_r_01">
    <inertial>
      <origin
      xyz="0.0046514 -0.0571164 -0.0000339"
      rpy="0 0 0" />
      <mass
      value="1.0002100" />
      <inertia
        ixx="0.0008199"
        ixy="0.0000161"
        ixz="-0.0000013"
        iyy="0.0007528"
        iyz="-0.0000001"
        izz="0.000911" />
    </inertial>
    <visual>
      <origin
        xyz="0 0 0"
        rpy="0 0 0" />
      <geometry>
        <mesh
          filename="../meshes/Link_arm_r_01.STL" />
      </geometry>
      <material
        name="">
        <color
          rgba="0.69804 0.69804 0.69804 1" />
      </material>
    </visual>
    <!-- <collision>
      <origin
        xyz="0 0 0"
        rpy="0 0 0" />
      <geometry>
        <mesh
          filename="../meshes/Link_arm_r_01.STL" />
      </geometry>
    </collision> -->
  </link>
  <joint
    name="x_right_arm_joint1"
    type="revolute">
    <origin
    xyz="0 -0.15585 0.4005"
    rpy="0 0 0" />
    <parent
      link="base_link" />
    <child
      link="Link_arm_r_01" />
    <axis
      xyz="0 -1 0" />
    <limit
      lower="-2.96706"
      upper="2.96706"
      effort="1000"
      velocity="50" />
  </joint>
  <link
    name="Link_arm_r_02">
    <inertial>
      <origin
      xyz="0.0010619 -0.0788156 -0.0000094"
      rpy="0 0 0" />
      <mass
      value="1.19958456" />
      <inertia
        ixx="0.0018536"
        ixy="-0.0000661"
        ixz="-0.0000007"
        iyy="0.0012457"
        iyz="-0.0000001"
        izz="0.002266" />
    </inertial>
    <visual>
      <origin
        xyz="0 0 0"
        rpy="0 0 0" />
      <geometry>
        <mesh
          filename="../meshes/Link_arm_r_02.STL" />
      </geometry>
      <material
        name="">
        <color
          rgba="0.698039215686274 0.698039215686274 0.698039215686274 1" />
      </material>
    </visual>
    <!-- <collision>
      <origin
        xyz="0 0 0"
        rpy="0 0 0" />
      <geometry>
        <mesh
          filename="../meshes/Link_arm_r_02.STL" />
      </geometry>
    </collision> -->
  </link>
  <joint
    name="x_right_arm_joint2"
    type="revolute">
    <origin
    xyz="0 -0.062 0"
    rpy="0 0 0" />
    <parent
      link="Link_arm_r_01" />
    <child
      link="Link_arm_r_02" />
    <axis
      xyz="-1 0 0" />
    <limit
      lower="-1.83260"
      upper="1.83260"
      effort="1000"
      velocity="50" />
  </joint>
  <link
    name="Link_arm_r_03">
    <inertial>
      <origin
      xyz="0.0062837 -0.1617365 0.020381"
      rpy="0 0 0" />
      <mass
      value="1.0507333" />
      <inertia
        ixx="0.0025455"
        ixy="0.000105"
        ixz="-0.0000236"
        iyy="0.0007975"
        iyz="0.0003435"
        izz="0.0024808" />
    </inertial>
    <visual>
      <origin
        xyz="0 0 0"
        rpy="0 0 0" />
      <geometry>
        <mesh
          filename="../meshes/Link_arm_r_03.STL" />
      </geometry>
      <material
        name="">
        <color
          rgba="0.698039215686274 0.698039215686274 0.698039215686274 1" />
      </material>
    </visual>
    <!-- <collision>
      <origin
        xyz="0 0 0"
        rpy="0 0 0" />
      <geometry>
        <mesh
          filename="../meshes/Link_arm_r_03.STL" />
      </geometry>
    </collision> -->
  </link>
  <joint
    name="x_right_arm_joint3"
    type="revolute">
    <origin
    xyz="0 -0.1226 -4.5237E-05"
    rpy="0 0 0" />
    <parent
      link="Link_arm_r_02" />
    <child
      link="Link_arm_r_03" />
    <axis
      xyz="0 -1 0" />
    <limit
      lower="-2.96706"
      upper="2.96706"
      effort="1000"
      velocity="50" />
  </joint>
  <link
    name="Link_arm_r_04">
    <inertial>
      <origin
      xyz="0.0031896 -0.0686669 -0.0204404"
      rpy="0 0 0" />
      <mass
      value="0.688970829" />
      <inertia
        ixx="0.0010455"
        ixy="-0.0001055"
        ixz="-0.0000164"
        iyy="0.0006977"
        iyz="-0.000155"
        izz="0.0013839" />
    </inertial>
    <visual>
      <origin
        xyz="0 0 0"
        rpy="0 0 0" />
      <geometry>
        <mesh
          filename="../meshes/Link_arm_r_04.STL" />
      </geometry>
      <material
        name="">
        <color
          rgba="0.69804 0.69804 0.69804 1" />
      </material>
    </visual>
    <!-- <collision>
      <origin
        xyz="0 0 0"
        rpy="0 0 0" />
      <geometry>
        <mesh
          filename="../meshes/Link_arm_r_04.STL" />
      </geometry>
    </collision> -->
  </link>
  <joint
    name="x_right_arm_joint4"
    type="revolute">
    <origin
    xyz="0 -0.1774 0.024045"
    rpy="0 0 0" />
    <parent
      link="Link_arm_r_03" />
    <child
      link="Link_arm_r_04" />
    <axis
      xyz="-1 0 0" />
    <limit
      lower="0"
      upper="2.967059728"
      effort="1000"
      velocity="50" />
  </joint>
  <link
    name="Link_arm_r_05">
    <inertial>
      <origin
      xyz="0.0045361 -0.0998432 -0.000004"
      rpy="0 0 0" />
      <mass
      value="0.80390762" />
      <inertia
        ixx="0.0022061"
        ixy="0.0001485"
        ixz="0.0000004"
        iyy="0.0004107"
        iyz="0.0000009"
        izz="0.0022172" />
    </inertial>
    <visual>
      <origin
        xyz="0 0 0"
        rpy="0 0 0" />
      <geometry>
        <mesh
          filename="../meshes/Link_arm_r_05.STL" />
      </geometry>
      <material
        name="">
        <color
          rgba="0.69804 0.69804 0.69804 1" />
      </material>
    </visual>
    <!-- <collision>
      <origin
        xyz="0 0 0"
        rpy="0 0 0" />
      <geometry>
        <mesh
          filename="../meshes/Link_arm_r_05.STL" />
      </geometry>
    </collision> -->
  </link>
  <joint
    name="x_right_arm_joint5"
    type="revolute">
    <origin
    xyz="0 -0.107 -0.024045"
    rpy="0 0 0" />
    <parent
      link="Link_arm_r_04" />
    <child
      link="Link_arm_r_05" />
    <axis
      xyz="0 -1 0" />
    <limit
      lower="-2.96706"
      upper="2.96706"
      effort="1000"
      velocity="50" />
  </joint>
  <link
    name="Link_arm_r_06">
    <inertial>
      <origin
      xyz="0.000364 -0.0482053 0.0065673"
      rpy="0 0 0" />
      <mass
      value="0.466149172" />
      <inertia
        ixx="0.0002745"
        ixy="-0.0000101"
        ixz="0.0000011"
        iyy="0.0002191"
        iyz="0.0000183"
        izz="0.0003278" />
    </inertial>
    <visual>
      <origin
        xyz="0 0 0"
        rpy="0 0 0" />
      <geometry>
        <mesh
          filename="../meshes/Link_arm_r_06.STL" />
      </geometry>
      <material
        name="">
        <color
          rgba="0.69804 0.69804 0.69804 1" />
      </material>
    </visual>
    <!-- <collision>
      <origin
        xyz="0 0 0"
        rpy="0 0 0" />
      <geometry>
        <mesh
          filename="../meshes/Link_arm_r_06.STL" />
      </geometry>
    </collision> -->
  </link>
  <joint
    name="x_right_arm_joint6"
    type="revolute">
    <origin
    xyz="0 -0.139 4.5237E-05"
    rpy="0 0 0" />
    <parent
      link="Link_arm_r_05" />
    <child
      link="Link_arm_r_06" />
    <axis
      xyz="1 0 0" />
    <limit
      lower="-1.8326"
      upper="1.8326"
      effort="1000"
      velocity="50" />
  </joint>
  <link
    name="Link_arm_r_07">
    <inertial>
      <origin
      xyz="0.0028369 -0.1052698 0.001581"
      rpy="0 0 0" />
      <mass
      value="0.6529339" />
      <inertia
        ixx="0.0016448"
        ixy="0.0000305"
        ixz="-0.0000584"
        iyy="0.0003364"
        iyz="0.0000782"
        izz="0.0014885" />
    </inertial>
    <visual>
      <origin
        xyz="0 0 0"
        rpy="0 0 0" />
      <geometry>
        <mesh
          filename="../meshes/Link_arm_r_07.STL" />
      </geometry>
      <material
        name="">
        <color
          rgba="0.77647 0.75686 0.73725 1" />
      </material>
    </visual>
    <!-- <collision>
      <origin
        xyz="0 0 0"
        rpy="0 0 0" />
      <geometry>
        <mesh
          filename="../meshes/Link_arm_r_07.STL" />
      </geometry>
    </collision> -->
  </link>
  <joint
    name="x_right_arm_joint7"
    type="revolute">
    <origin
    xyz="0 -0.054 0"
    rpy="0 0 0" />
    <parent
      link="Link_arm_r_06" />
    <child
      link="Link_arm_r_07" />
    <axis
      xyz="0 0 1" />
    <limit
      lower="-1.04720"
      upper="1.04720"
      effort="1000"
      velocity="50" />
  </joint>
</robot>
